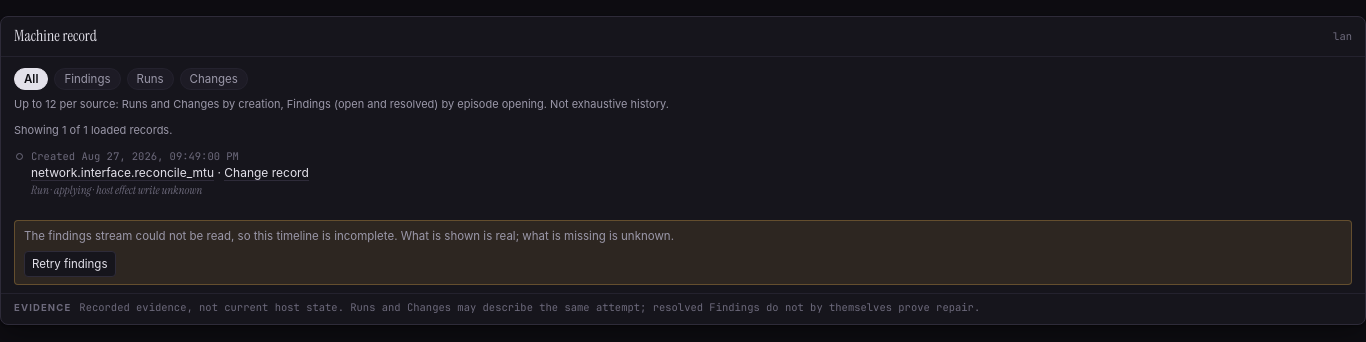
Scenario: object record investigation › retries only a failed source without losing other records
What coordinates should you click on to do the following:
click the button "Retry findings"
I would click on:
 (70, 264)
Its box is 24,251 -> 116,277.
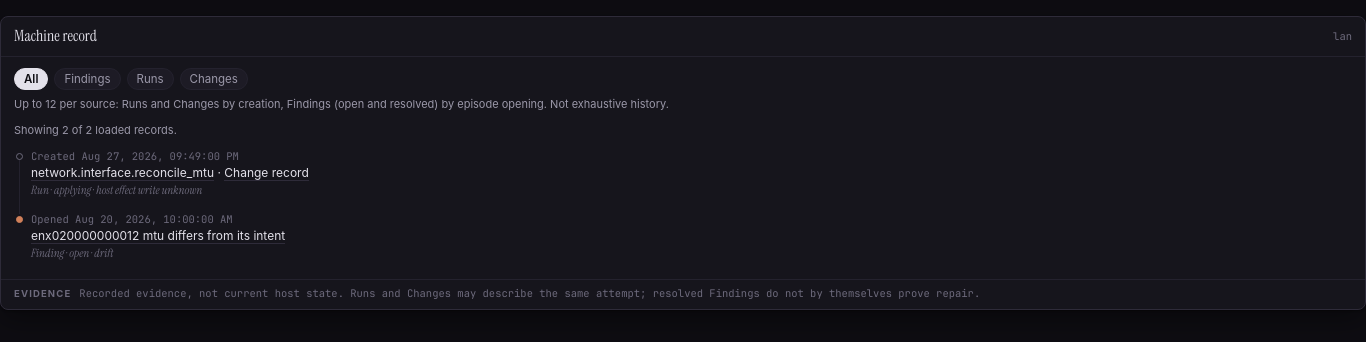
Expected: the text "Run · applying · host effect write unknown" is shown, 31,183 -> 202,198
Expected: the link "enx020000000012 mtu differs from its intent" is shown, 31,228 -> 285,244
Expected: the button "Retry findings" is gone
